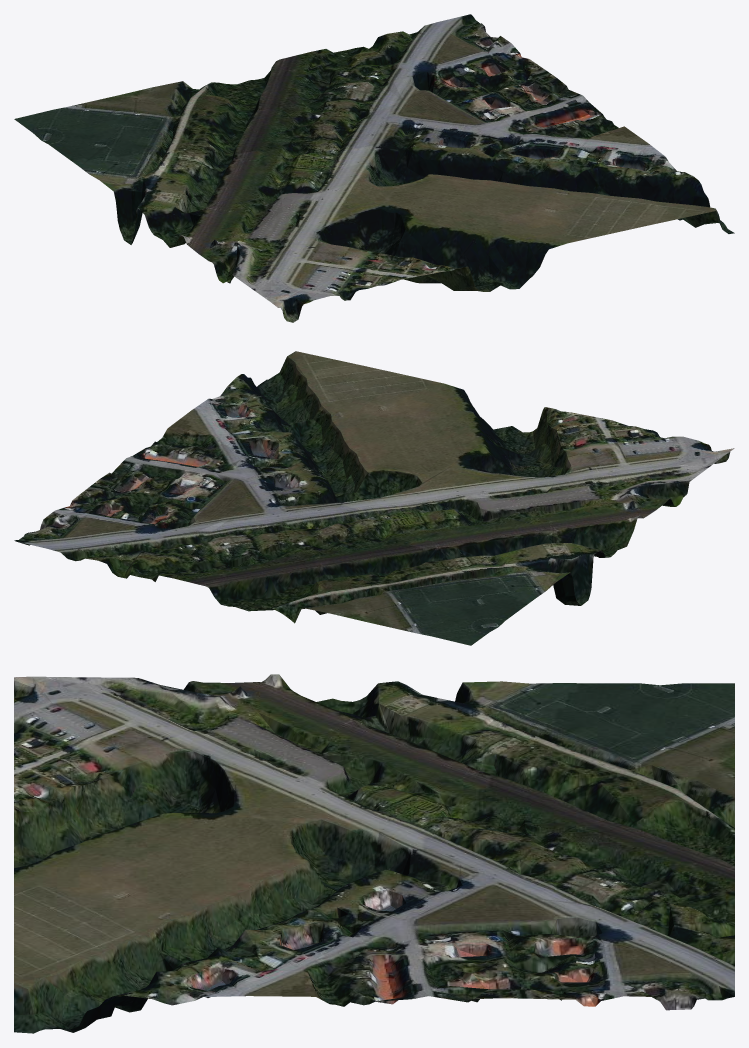
Rendered from map_13_2046_3447.dae.
The picture shows the model from 3 angles, top to bottom: view 1: azimuth 30°, elevation 25°; view 2: azimuth 150°, elevation 25°; view 3: azimuth 270°, elevation 25°; orthographic projection. The views are drawn at different scales.
Parts seen in each view (by area): view 1: Ter0; view 2: Ter0; view 3: Ter0.
Part boxes in pixels (x1,y1,x2,y2): Ter0: [14, 14, 734, 322]; Ter0: [14, 351, 734, 645]; Ter0: [14, 674, 734, 1033].
Bounding box in the file's own units: 256 × 256 × 25.64.
Materials: 2 (2 with a texture image).
